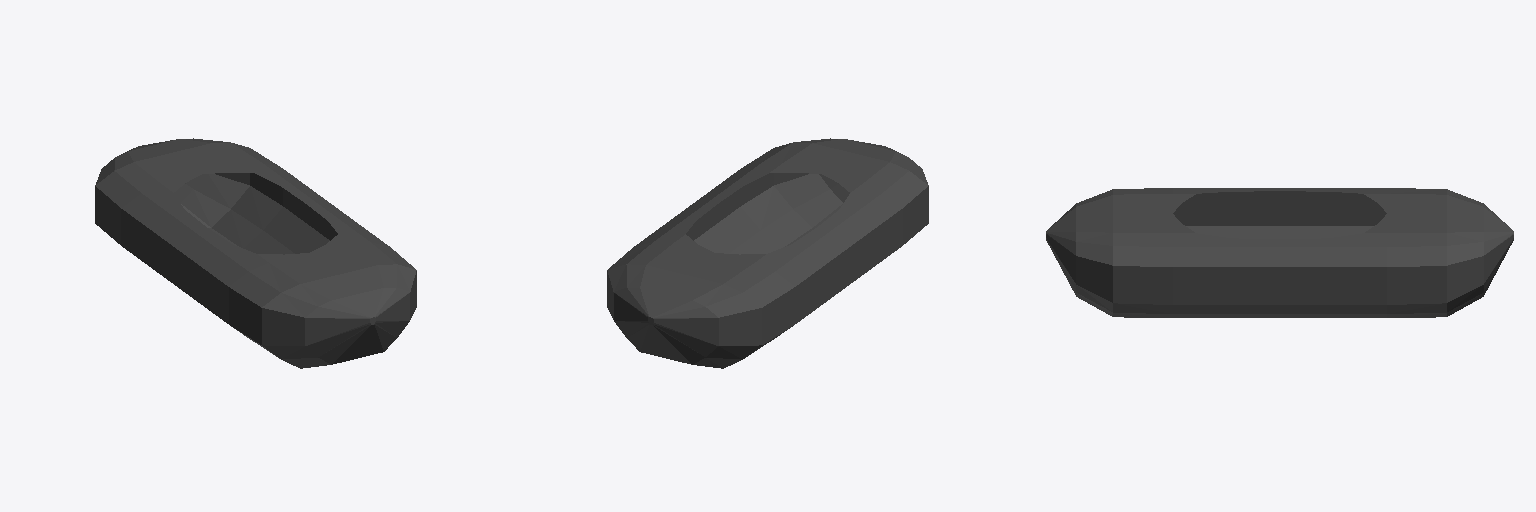
The model's file is Kayak-Canoe.obj.
3 renders of one model, left to right at view 1: azimuth 30°, elevation 25°; view 2: azimuth 150°, elevation 25°; view 3: azimuth 270°, elevation 25°, orthographic.
Parts seen in each view (by area): view 1: Box001; view 2: Box001; view 3: Box001.
Part boxes in pixels (bbox=[...]): Box001: bbox=[95, 138, 416, 368]; Box001: bbox=[607, 138, 928, 368]; Box001: bbox=[1046, 188, 1513, 317].
Size of the model in its own units: 40 by 20 by 100.